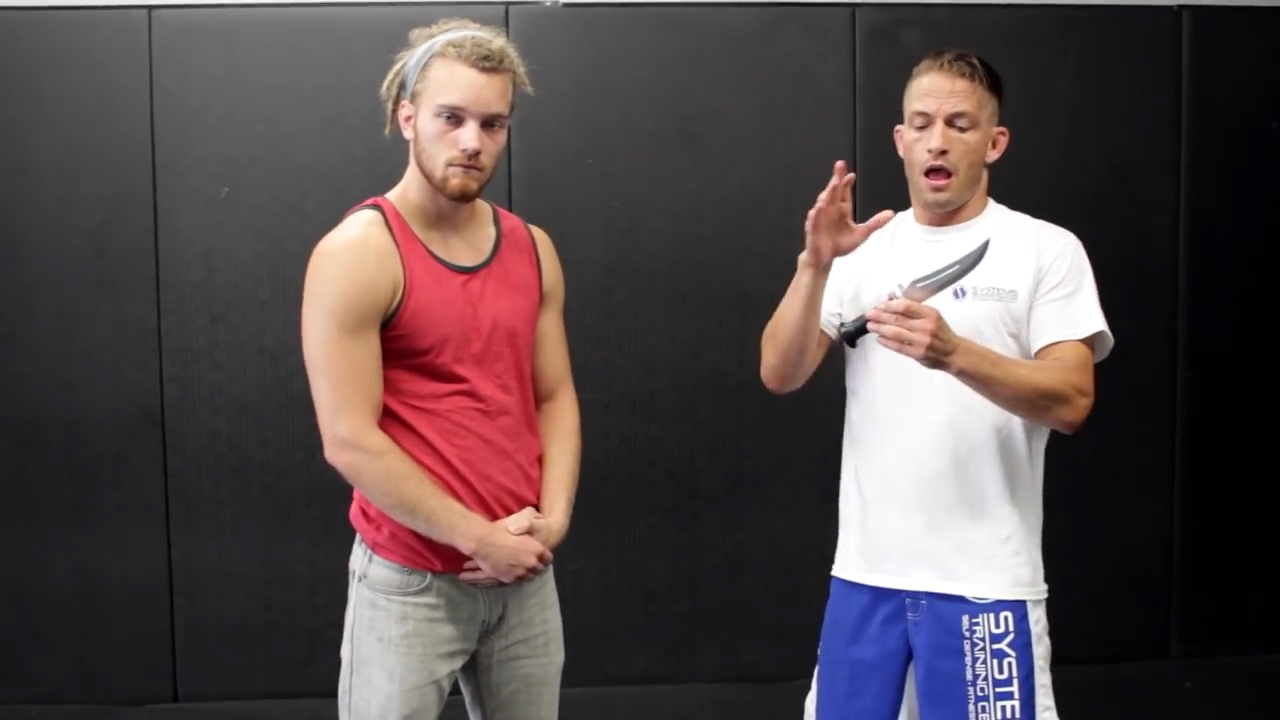knife: (828, 227, 999, 355)
